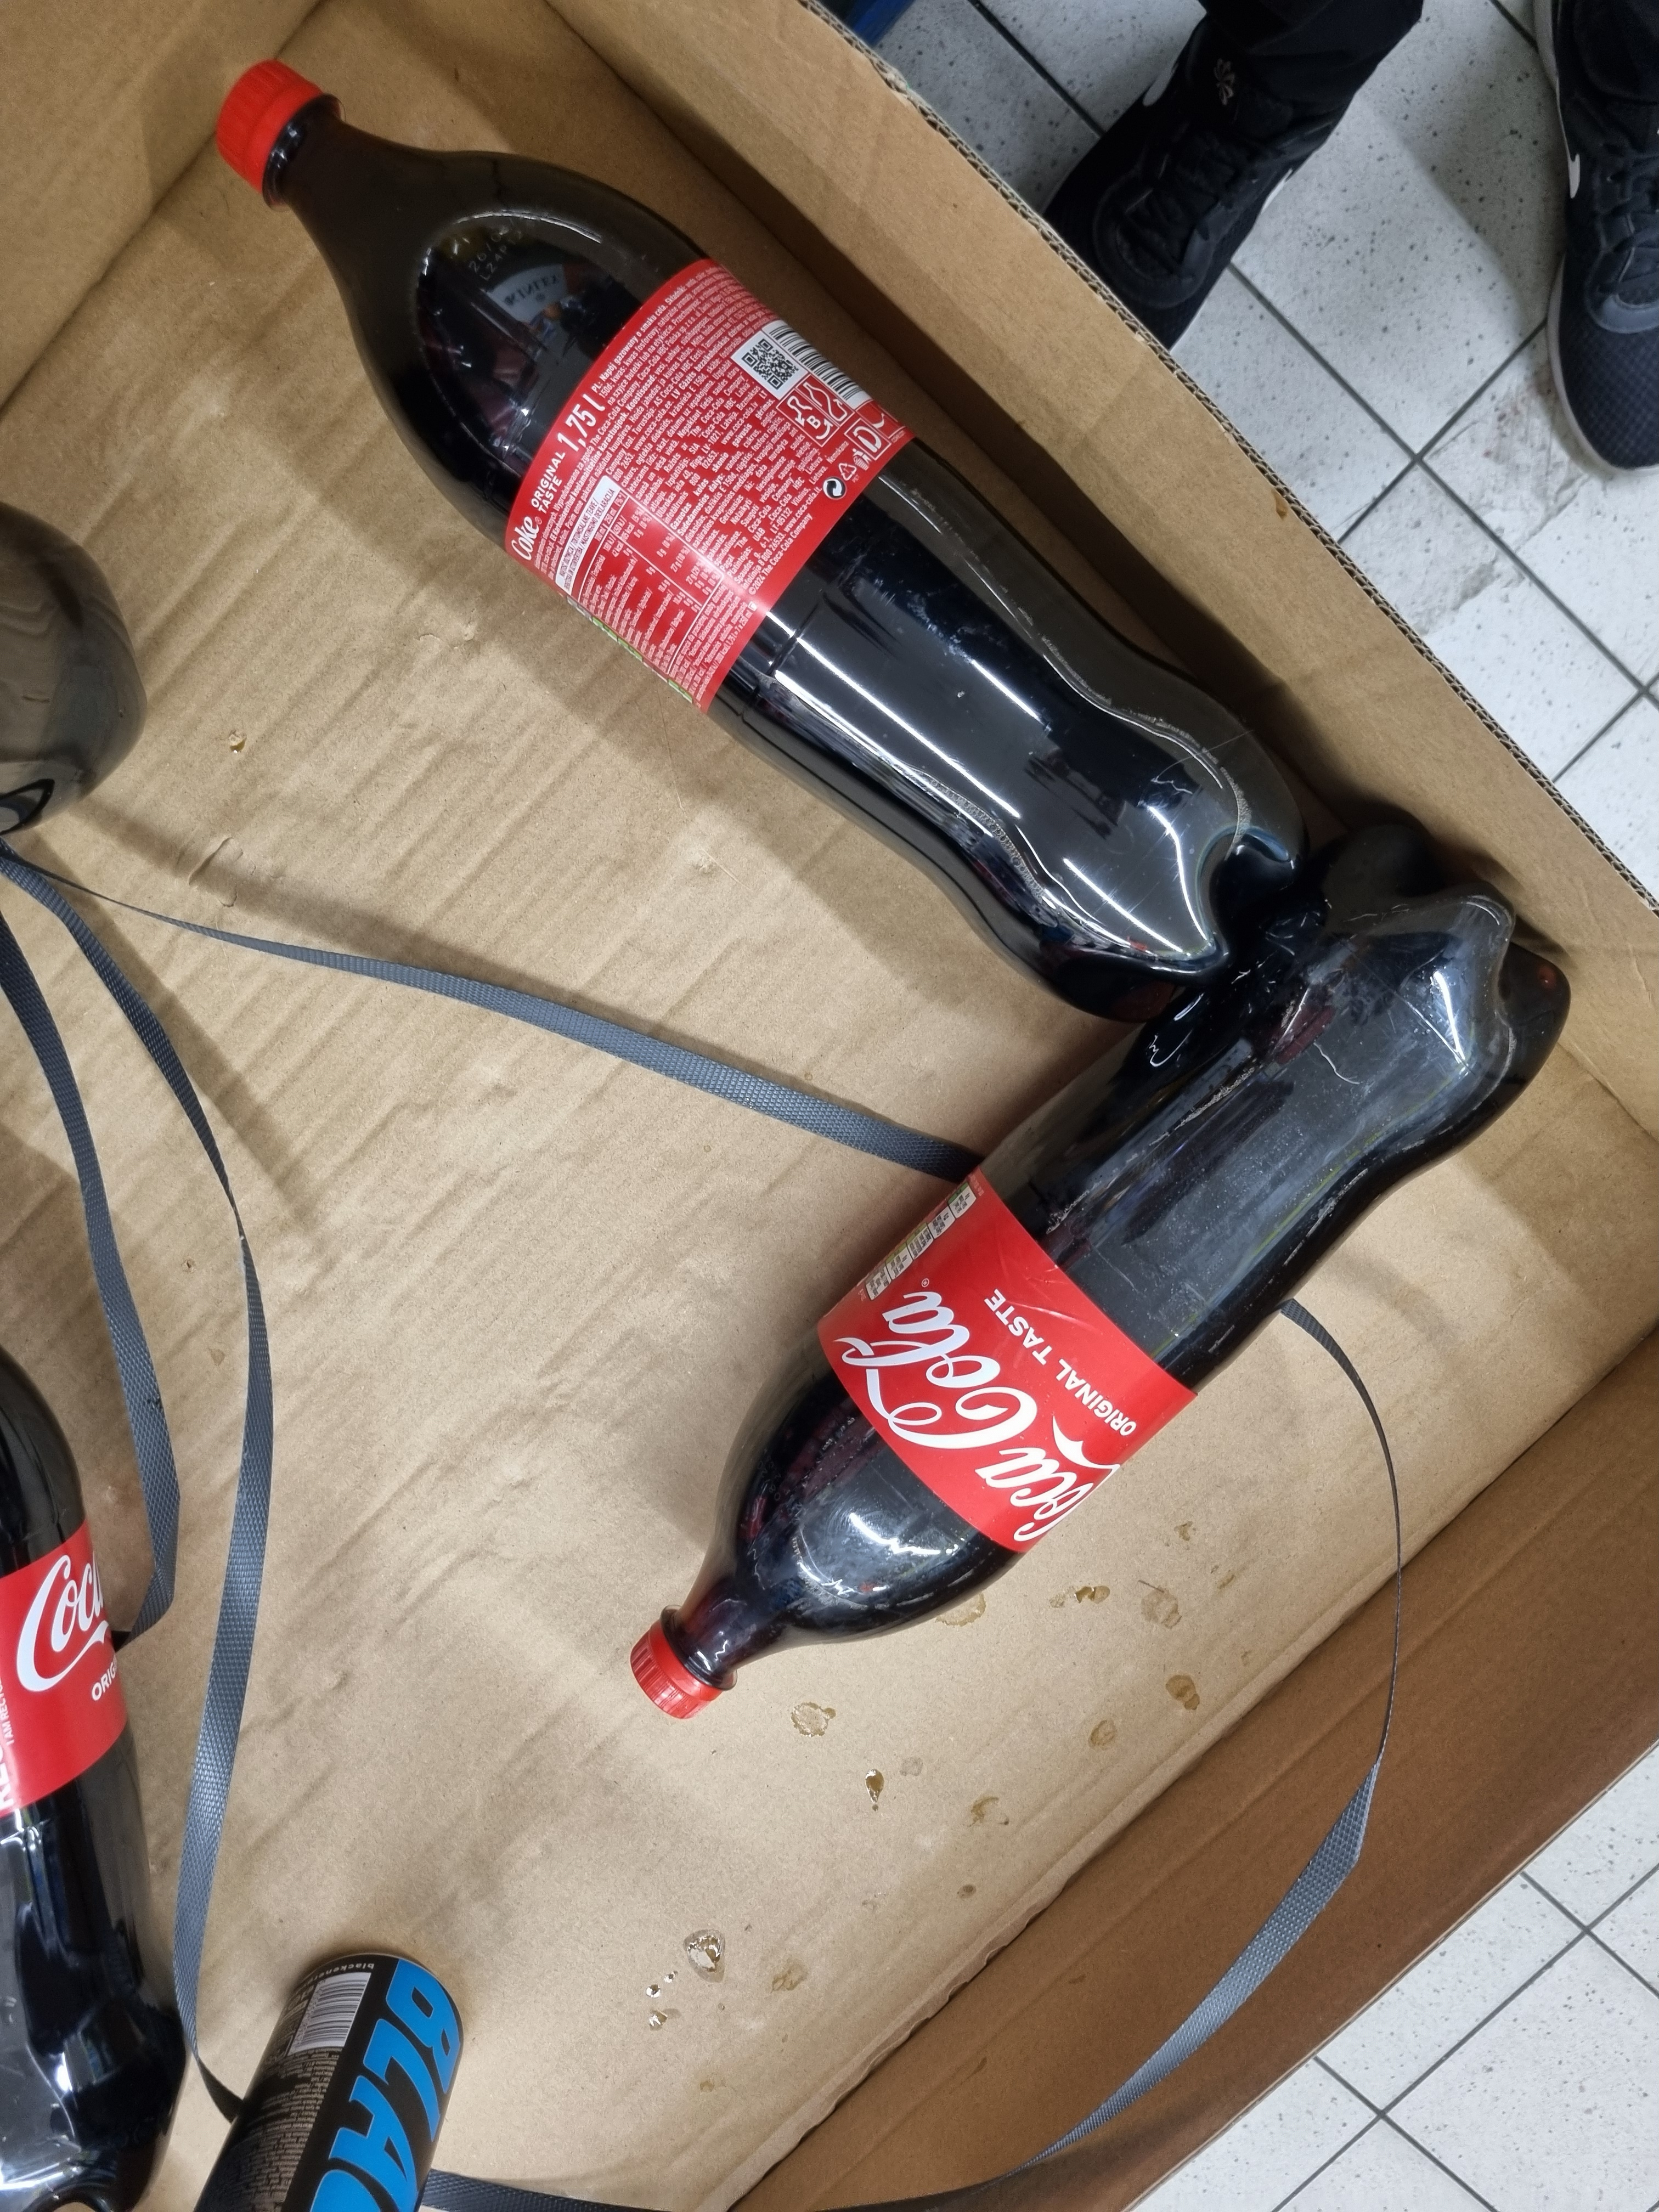Coca Cola: (211, 42, 1333, 1000), (622, 897, 1554, 1717), (0, 1325, 206, 2207)
